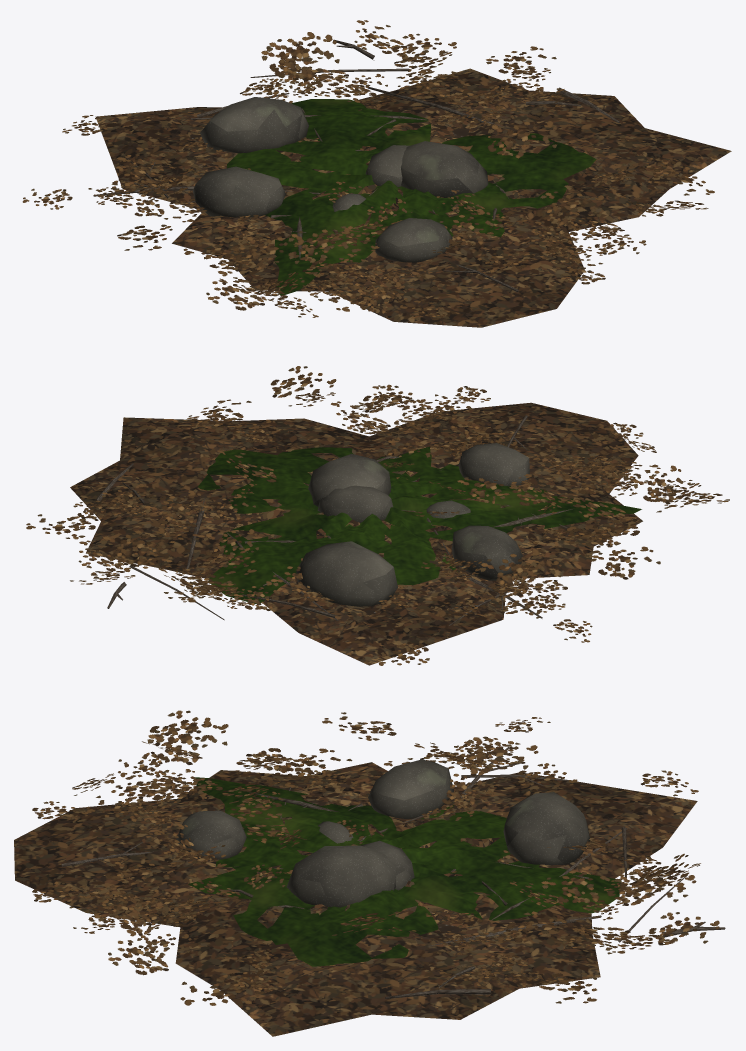
Rendered from env_ground.glb.
3 views of the same model, one above another, from view 1: azimuth 30°, elevation 25°; view 2: azimuth 150°, elevation 25°; view 3: azimuth 270°, elevation 25° (orthographic). The views are drawn at different scales.
Visible parts, largest first — view 1: GROUND_LeafLitter_Patch, GROUND_Moss_Cushion, GROUND_TrailEdge_Cluster, GROUND_Twig_Scatter; view 2: GROUND_LeafLitter_Patch, GROUND_Moss_Cushion, GROUND_TrailEdge_Cluster, GROUND_Twig_Scatter; view 3: GROUND_LeafLitter_Patch, GROUND_Moss_Cushion, GROUND_TrailEdge_Cluster, GROUND_Twig_Scatter.
Boxes of the visible parts, x1,y1,x2,y2 form: GROUND_LeafLitter_Patch: (22,20,731,327); GROUND_Moss_Cushion: (227,99,596,295); GROUND_TrailEdge_Cluster: (88,74,678,299); GROUND_Twig_Scatter: (93,39,619,292); GROUND_LeafLitter_Patch: (26,366,729,665); GROUND_Moss_Cushion: (198,446,641,603); GROUND_TrailEdge_Cluster: (102,385,648,618); GROUND_Twig_Scatter: (95,415,572,625); GROUND_LeafLitter_Patch: (14,710,719,1036); GROUND_Moss_Cushion: (188,777,620,966); GROUND_TrailEdge_Cluster: (73,738,666,993); GROUND_Twig_Scatter: (61,746,725,998).
Bounding box in the file's own units: 2.71 × 0.2278 × 2.6.
Materials: 6 (6 with a texture image).
